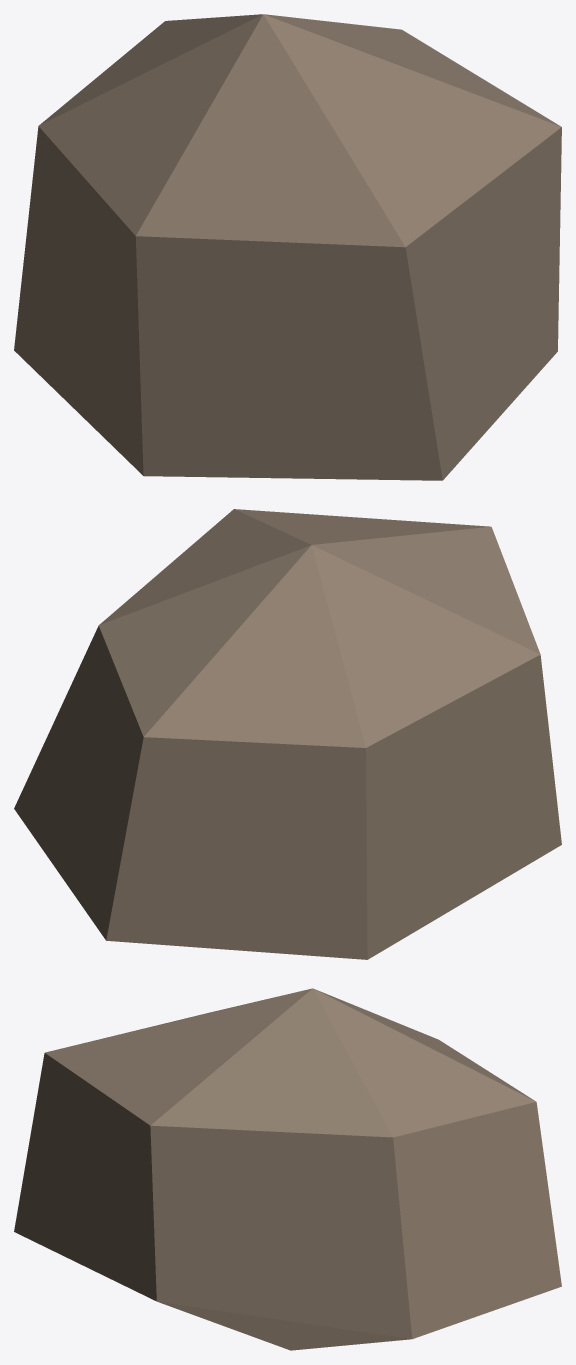
The model's file is roca_plana.glb.
The picture shows the model from 3 angles, top to bottom: view 1: azimuth 30°, elevation 25°; view 2: azimuth 150°, elevation 25°; view 3: azimuth 270°, elevation 25°; orthographic projection. The views are drawn at different scales.
Parts seen in each view (by area): view 1: Rock_10; view 2: Rock_10; view 3: Rock_10.
Boxes of the visible parts, box(x1,y1,x2,y2) form: Rock_10: box(14, 14, 561, 480); Rock_10: box(14, 509, 561, 959); Rock_10: box(14, 988, 561, 1350).
Bounding box in the file's own units: 2.21 × 1.99 × 2.85.
